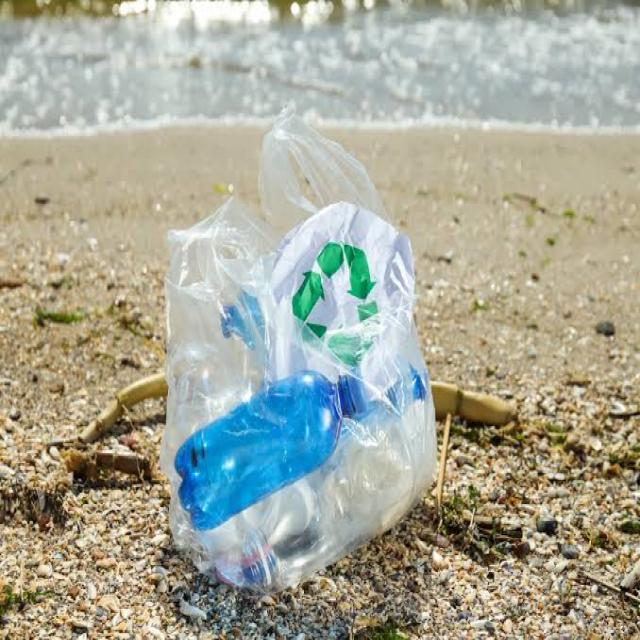plastic bag: (148, 105, 420, 599)
